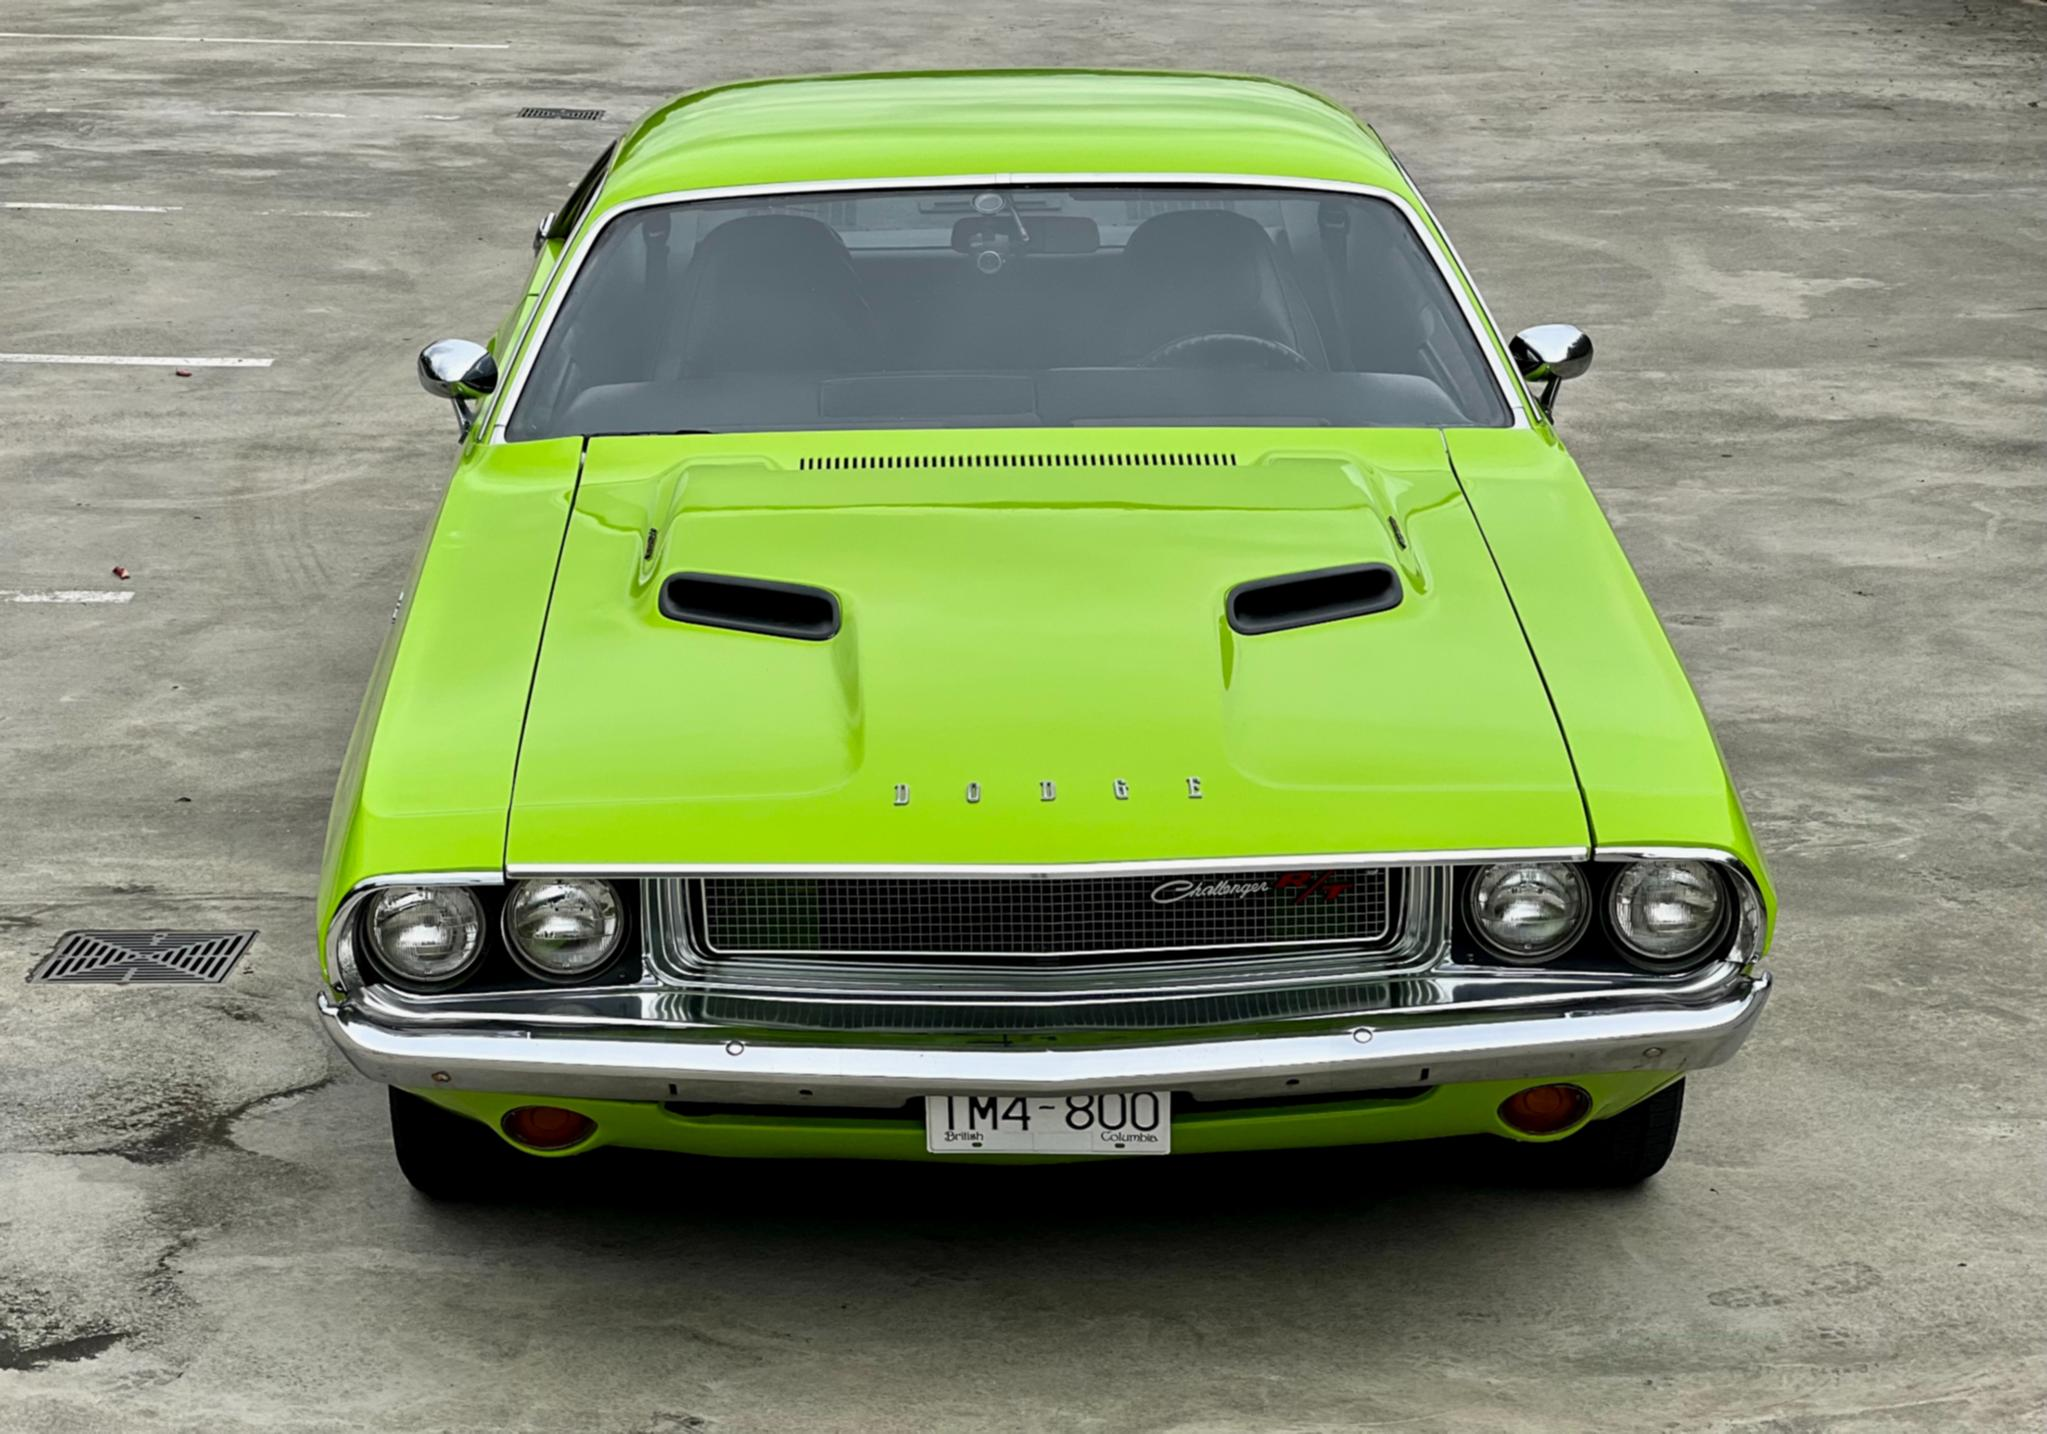dodge: (879, 756, 1238, 832)
